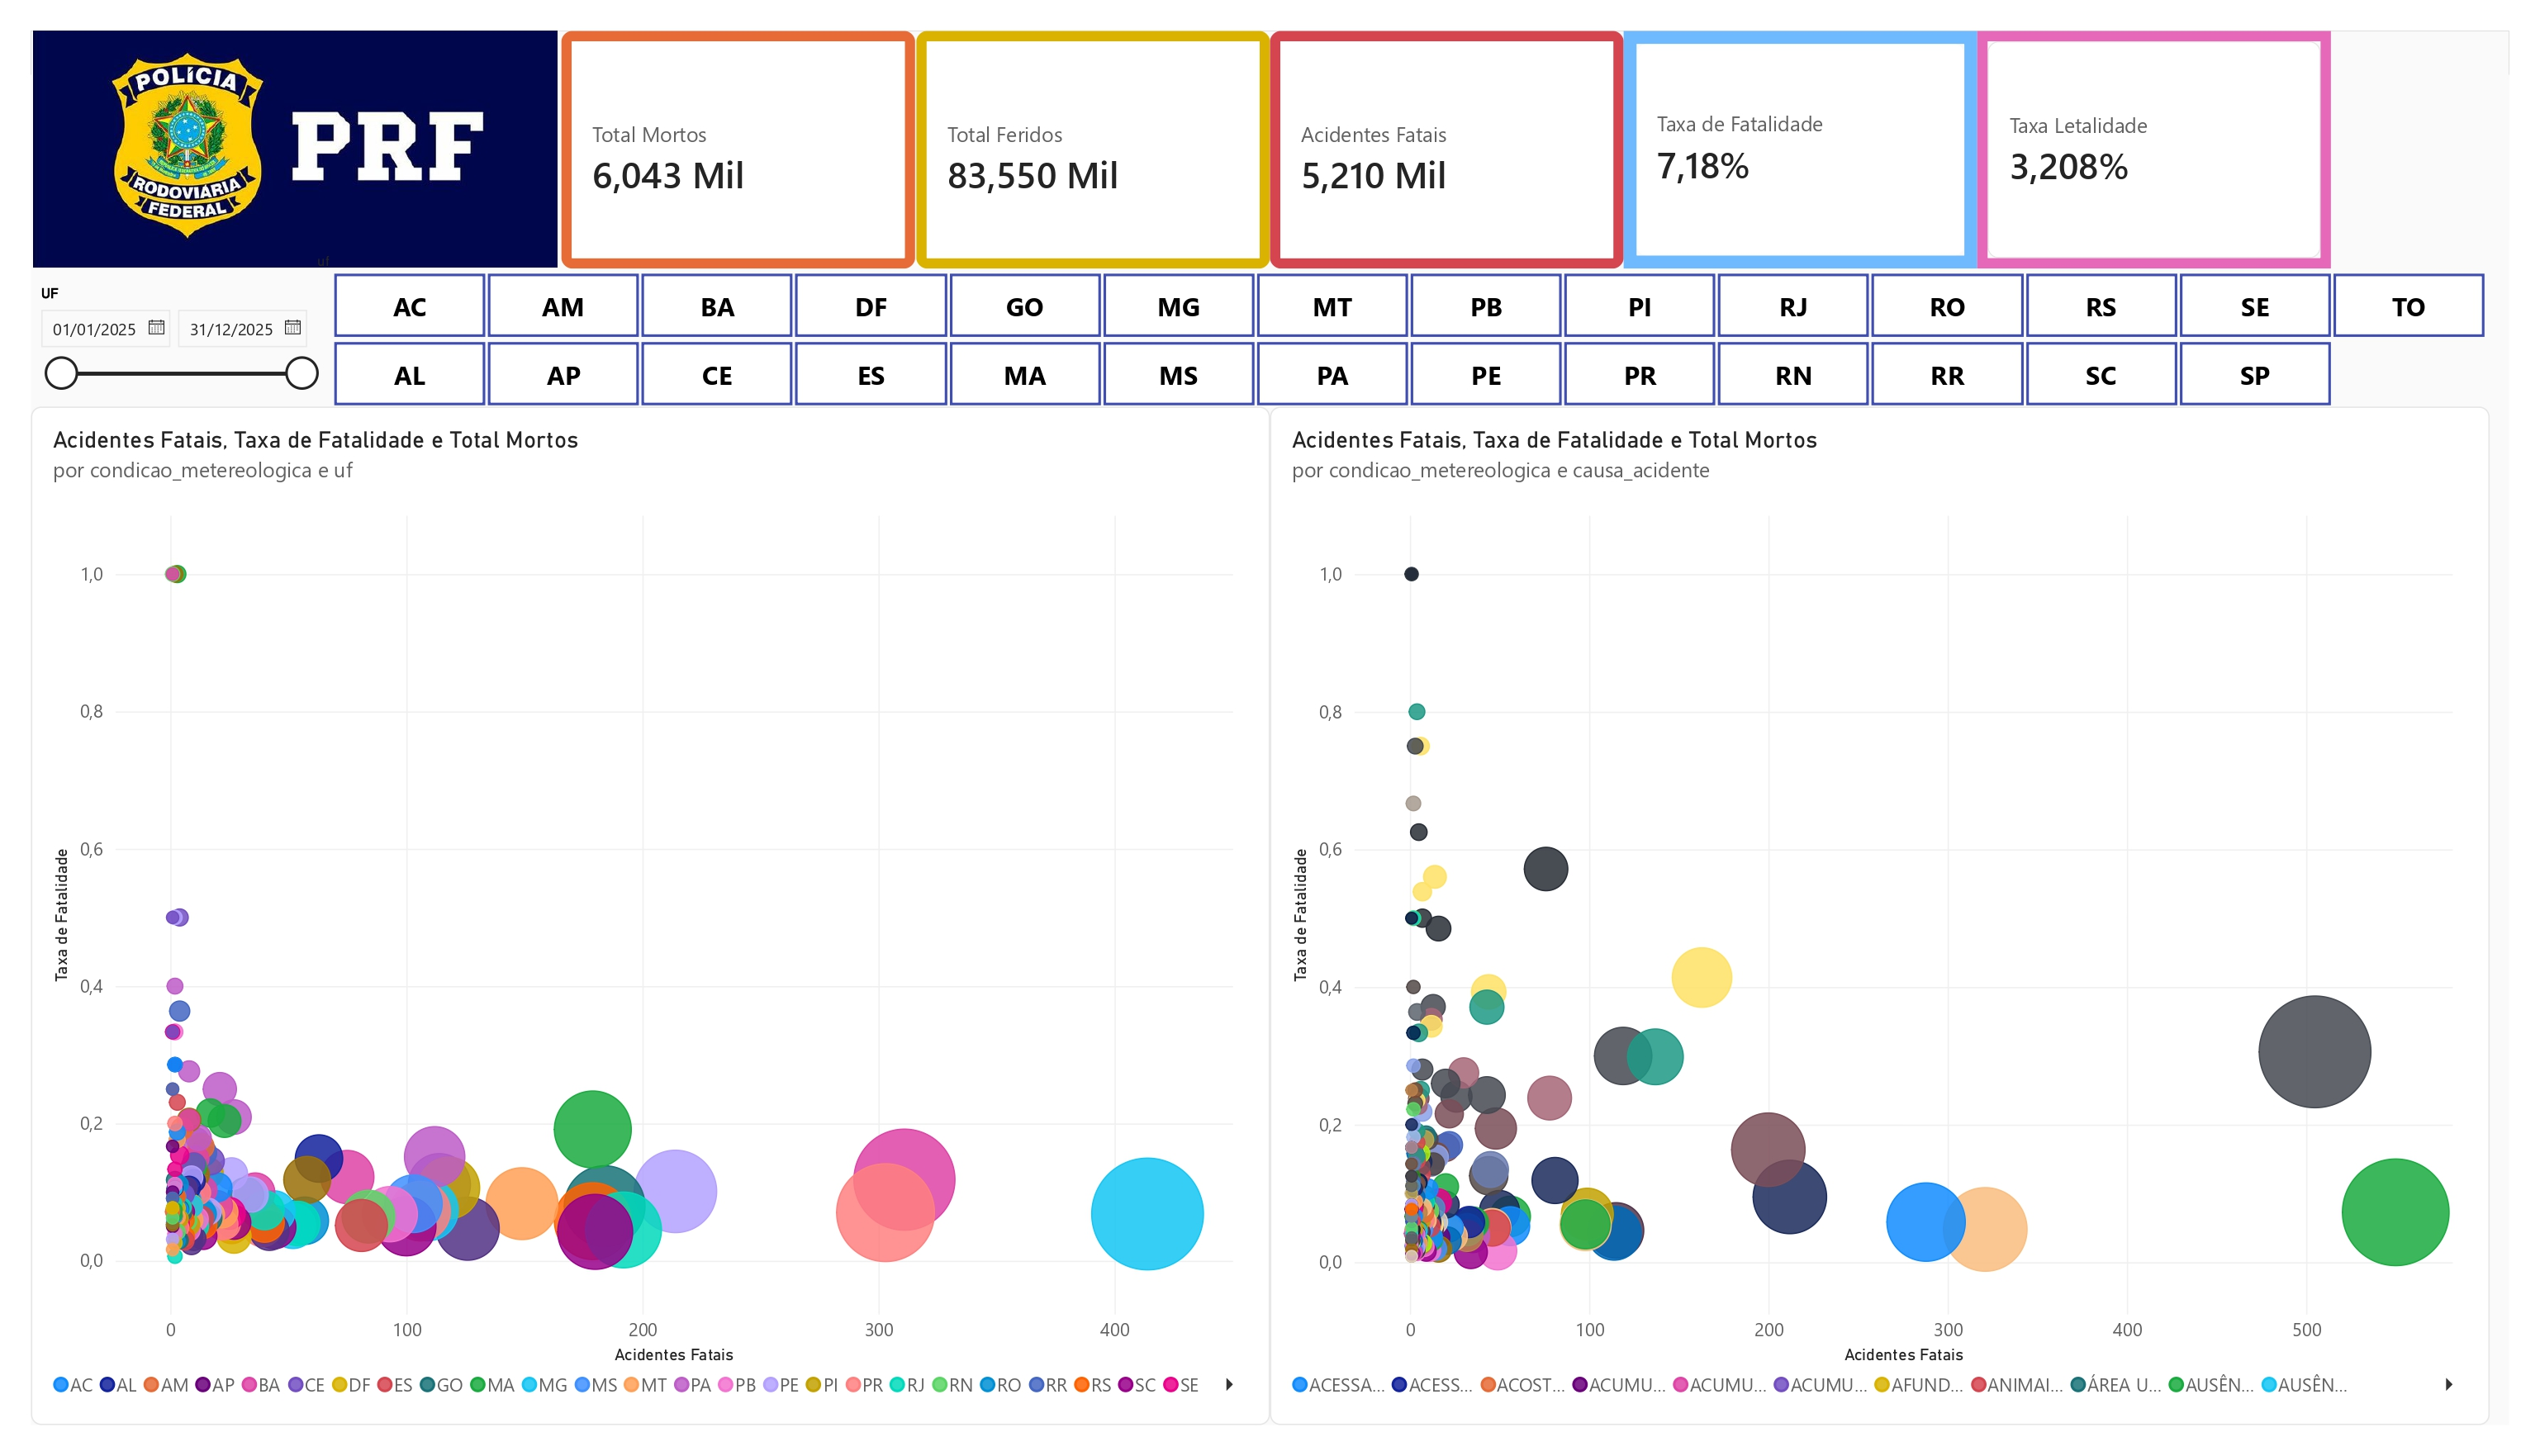

This screenshot's page, from the dashboard's own definition file:
{"tool":"powerbi","page":{"name":"Fatores Acidente Fatal","canvas":[1920,1080],"ordinal":7},"visuals":[{"type":"image","box":[0,0,410.3,183.2],"z":0},{"type":"cardVisual","fields":{"Data":["base_analitica_prf_2025.Total_Mortos"]},"box":[411,0,274,184],"z":1000},{"type":"cardVisual","fields":{"Data":["base_analitica_prf_2025.Total_Feridos"]},"box":[686.3,0,274,184],"z":2000},{"type":"cardVisual","fields":{"Data":["base_analitica_prf_2025.Acidentes_Fatais"]},"box":[960.3,0,274,184],"z":3000},{"type":"cardVisual","fields":{"Data":["base_analitica_prf_2025.Porcentagem_Fatal"]},"box":[1234.3,0,274,184],"z":4000},{"type":"cardVisual","fields":{"Data":["base_analitica_prf_2025.Taxa Letalidade"]},"box":[1508.3,0,274,184],"z":5000},{"type":"slicer","fields":{"Values":["base_analitica_prf_2025.uf"]},"box":[214.5,172.2,1705.5,119.6],"z":6000},{"type":"slicer","fields":{"Values":["base_analitica_prf_2025.data_inversa"]},"box":[0,197,226.1,125.5],"z":7000},{"type":"scatterChart","fields":{"Category":["base_analitica_prf_2025.condicao_metereologica"],"Series":["base_analitica_prf_2025.uf"],"Size":["base_analitica_prf_2025.Total Mortos"],"X":["base_analitica_prf_2025.Acidentes Fatais"],"Y":["base_analitica_prf_2025.Taxa de Fatalidade"]},"box":[0,291.3,960.3,788.7],"z":7001},{"type":"scatterChart","fields":{"Category":["base_analitica_prf_2025.condicao_metereologica"],"Series":["base_analitica_prf_2025.causa_acidente"],"Size":["base_analitica_prf_2025.Total Mortos"],"X":["base_analitica_prf_2025.Acidentes Fatais"],"Y":["base_analitica_prf_2025.Taxa de Fatalidade"]},"box":[960.3,291.3,944.3,788.7],"z":7002}]}

Visuals, with their boxes on the page's 1920x1080 design canvas (x1, y1, x2, y2). These are canvas units, not pixel positions in the 2540x1456 screenshot, which may show the page scaled, cropped or inside an application window:
image: 0:0:410:183
cardVisual - base_analitica_prf_2025.Total_Mortos: 411:0:685:184
cardVisual - base_analitica_prf_2025.Total_Feridos: 686:0:960:184
cardVisual - base_analitica_prf_2025.Acidentes_Fatais: 960:0:1234:184
cardVisual - base_analitica_prf_2025.Porcentagem_Fatal: 1234:0:1508:184
cardVisual - base_analitica_prf_2025.Taxa Letalidade: 1508:0:1782:184
slicer - base_analitica_prf_2025.uf: 214:172:1920:292
slicer - base_analitica_prf_2025.data_inversa: 0:197:226:322
scatterChart - base_analitica_prf_2025.condicao_metereologica x base_analitica_prf_2025.uf: 0:291:960:1080
scatterChart - base_analitica_prf_2025.condicao_metereologica x base_analitica_prf_2025.causa_acidente: 960:291:1905:1080
